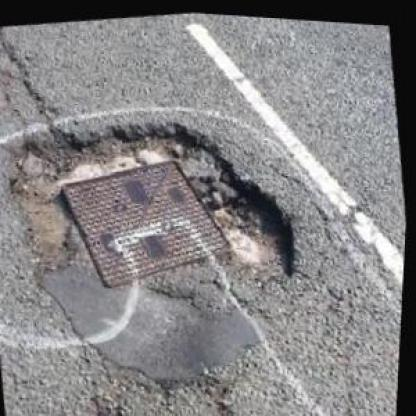pothole: (0, 87, 311, 315)
